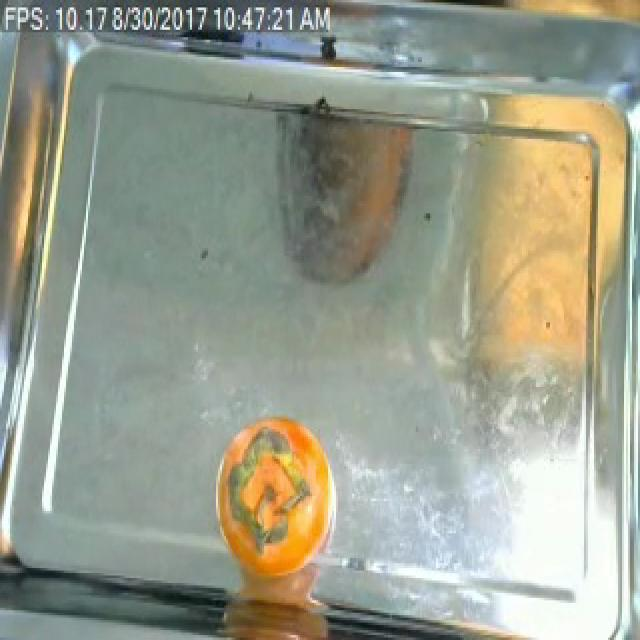Fruit: (440, 119, 604, 412), (216, 412, 336, 573), (210, 585, 342, 640)
